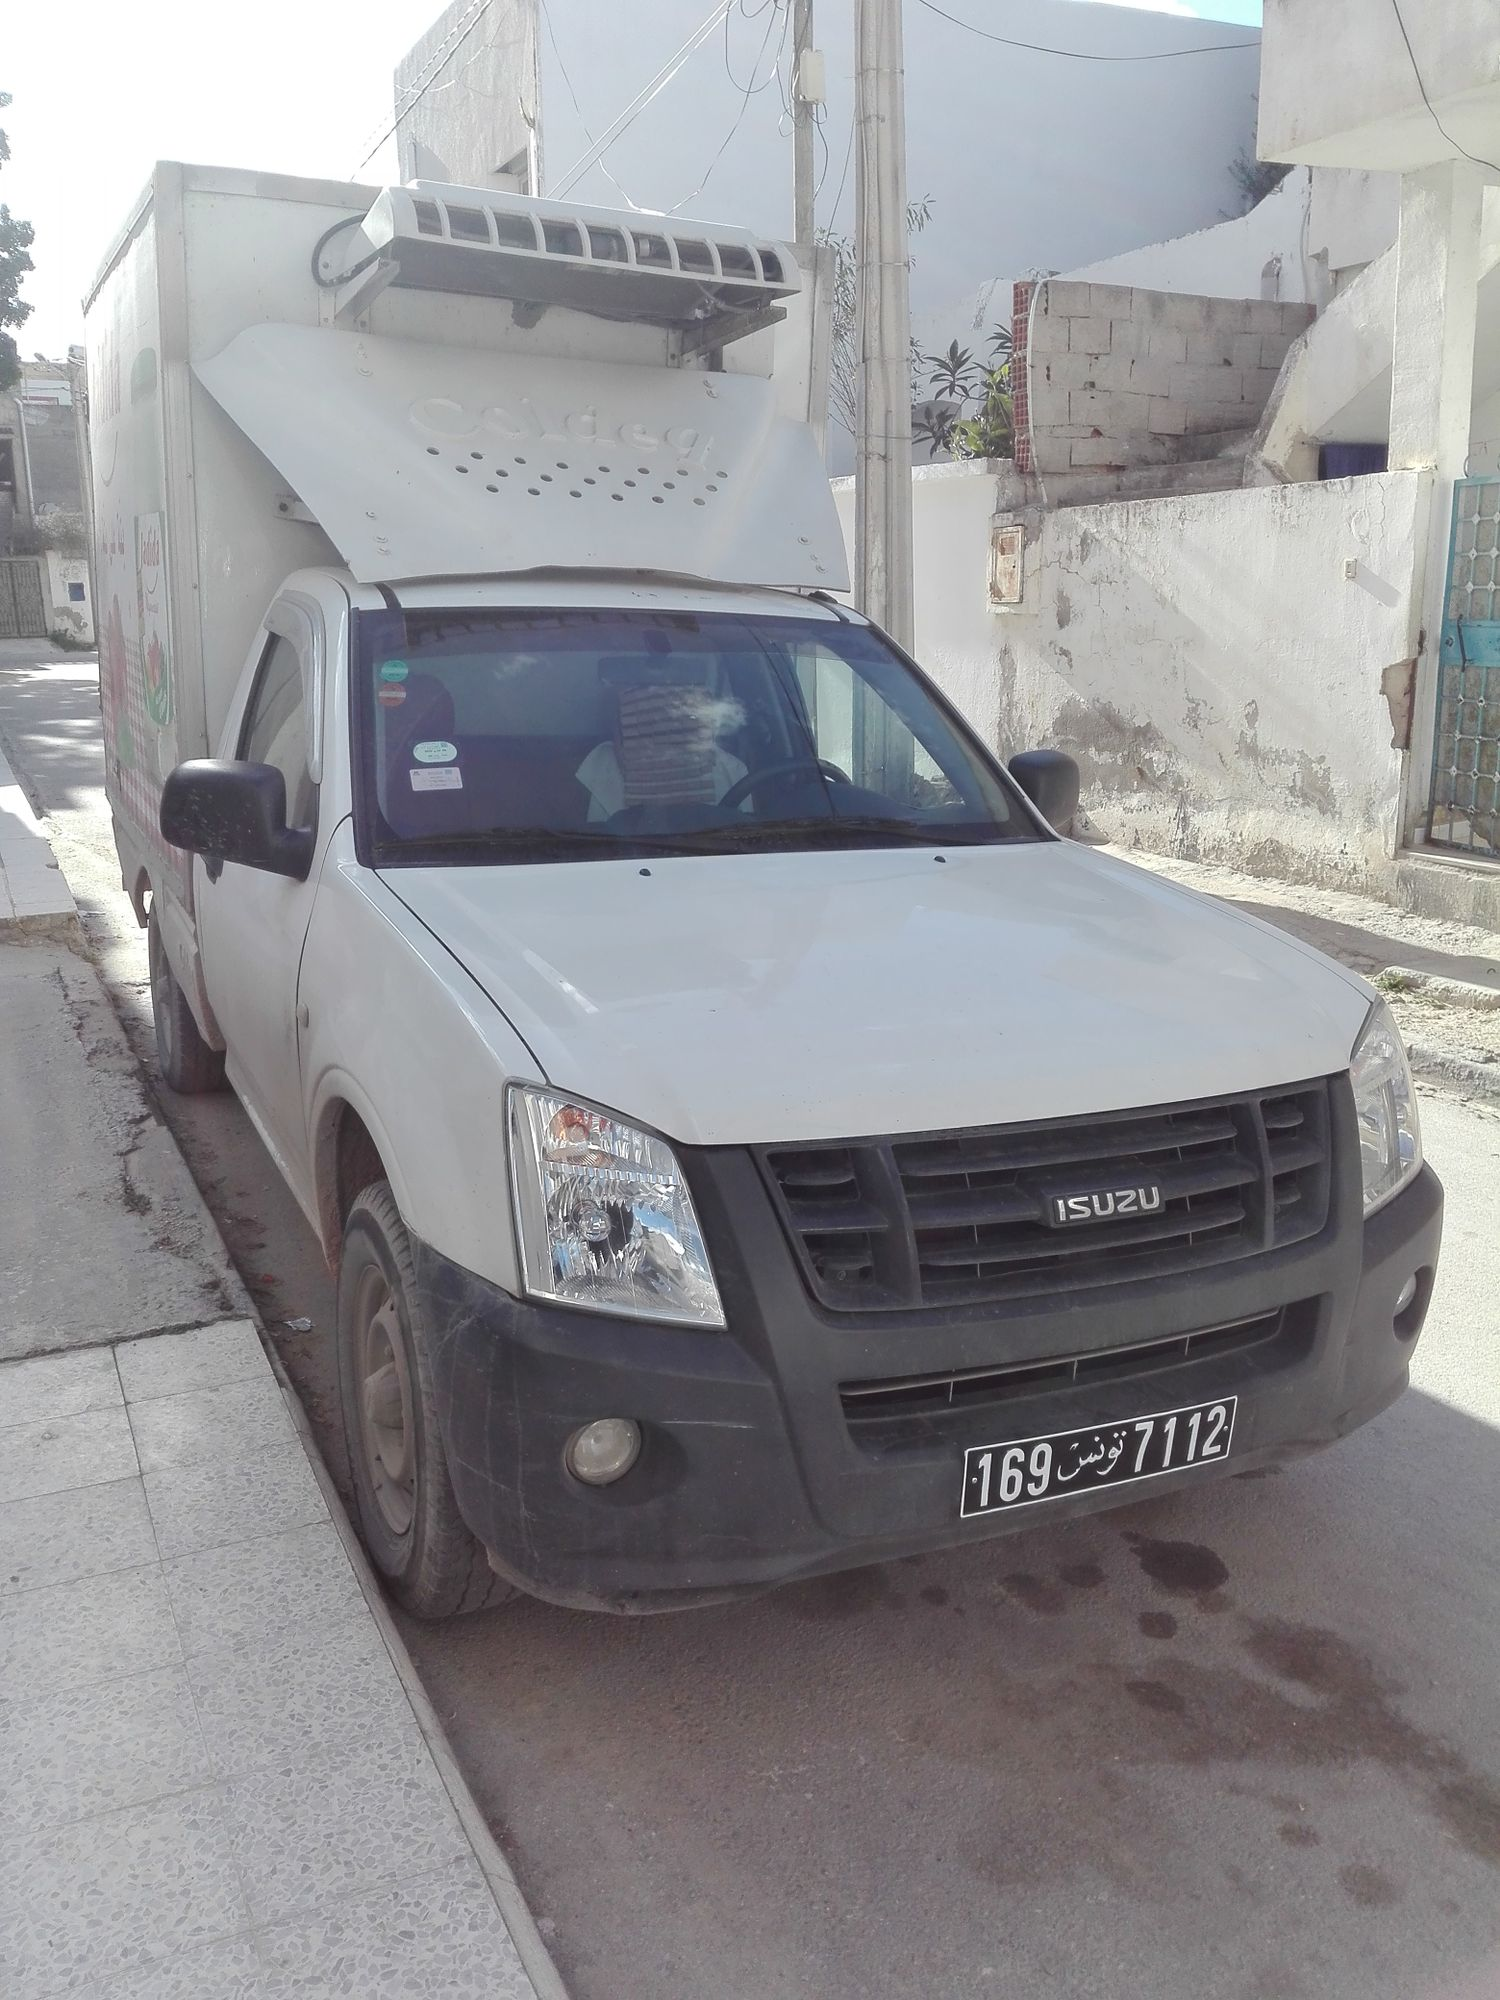LP: (949, 1393, 1249, 1523)
